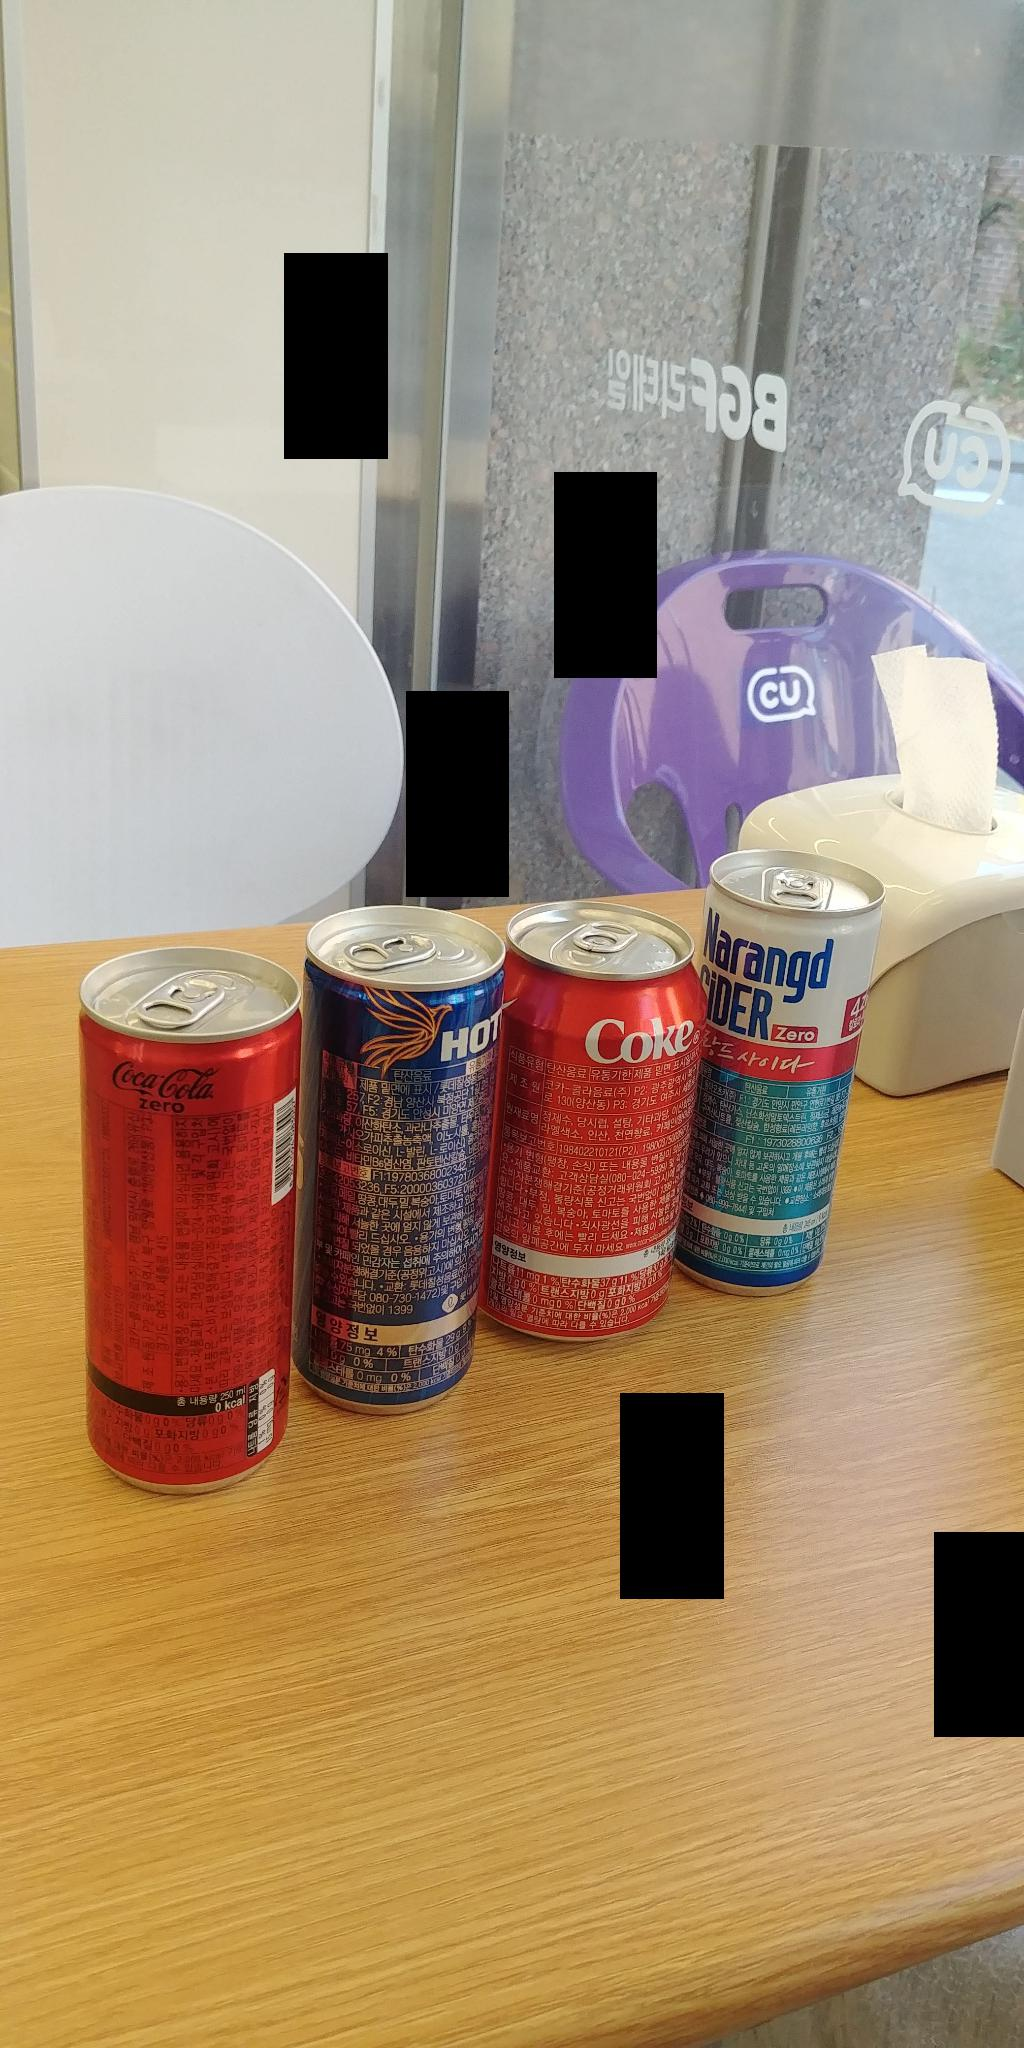cocacola: (499, 900, 687, 1364)
hotsix_org: (307, 896, 472, 1425)
narangdcider: (716, 856, 854, 1294)
